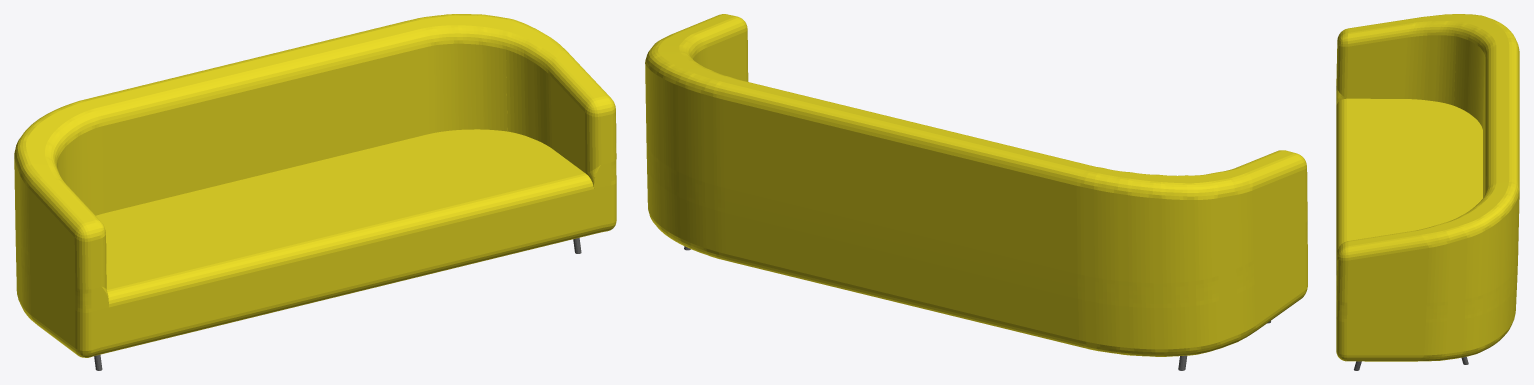
The model's file is Wide Curved Chair.fbx.
3 renders of one model, left to right at view 1: azimuth 30°, elevation 25°; view 2: azimuth 150°, elevation 25°; view 3: azimuth 270°, elevation 25°, orthographic. The views are drawn at different scales.
Visible parts, largest first — view 1: Chair; view 2: Chair; view 3: Chair.
Part boxes in pixels (left/top/right/bottom): Chair: left=14, top=14, right=616, bottom=370; Chair: left=645, top=14, right=1307, bottom=370; Chair: left=1336, top=14, right=1519, bottom=370.
Bounding box in the file's own units: 254 × 83.08 × 87.49.
